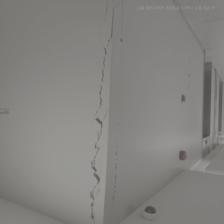Medium: (83, 45, 109, 223)
